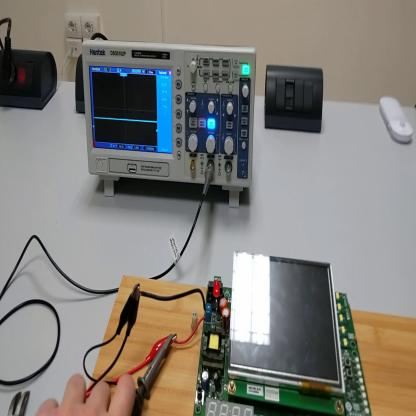hand: (37, 374, 138, 416)
low voltage board: (139, 251, 370, 412)
oscilloscope: (79, 40, 259, 207)
oscilloscope probe tip: (133, 332, 175, 415)
pliers: (6, 390, 31, 414)
socket: (1, 47, 60, 114), (76, 50, 87, 112)
working area: (89, 278, 416, 414)
